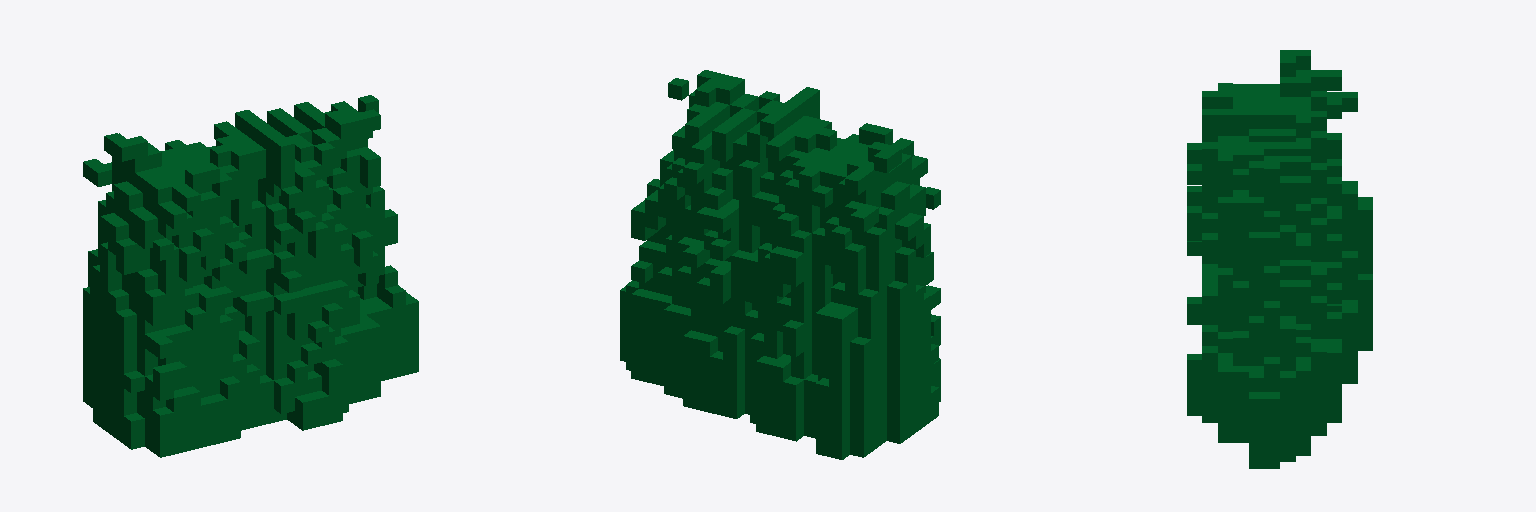
3 renders of one model, left to right at view 1: azimuth 30°, elevation 25°; view 2: azimuth 150°, elevation 25°; view 3: azimuth 270°, elevation 25°, orthographic.
Visible parts, largest first — view 1: object 1; view 2: object 1; view 3: object 1.
Boxes of the visible parts, x1=… form: object 1: x1=83, y1=95, x2=418, y2=457; object 1: x1=620, y1=70, x2=940, y2=459; object 1: x1=1187, y1=50, x2=1372, y2=468.
Bounding box in the file's own units: 2.2 × 2 × 1.2.
Materials: 1 (1 with a texture image).